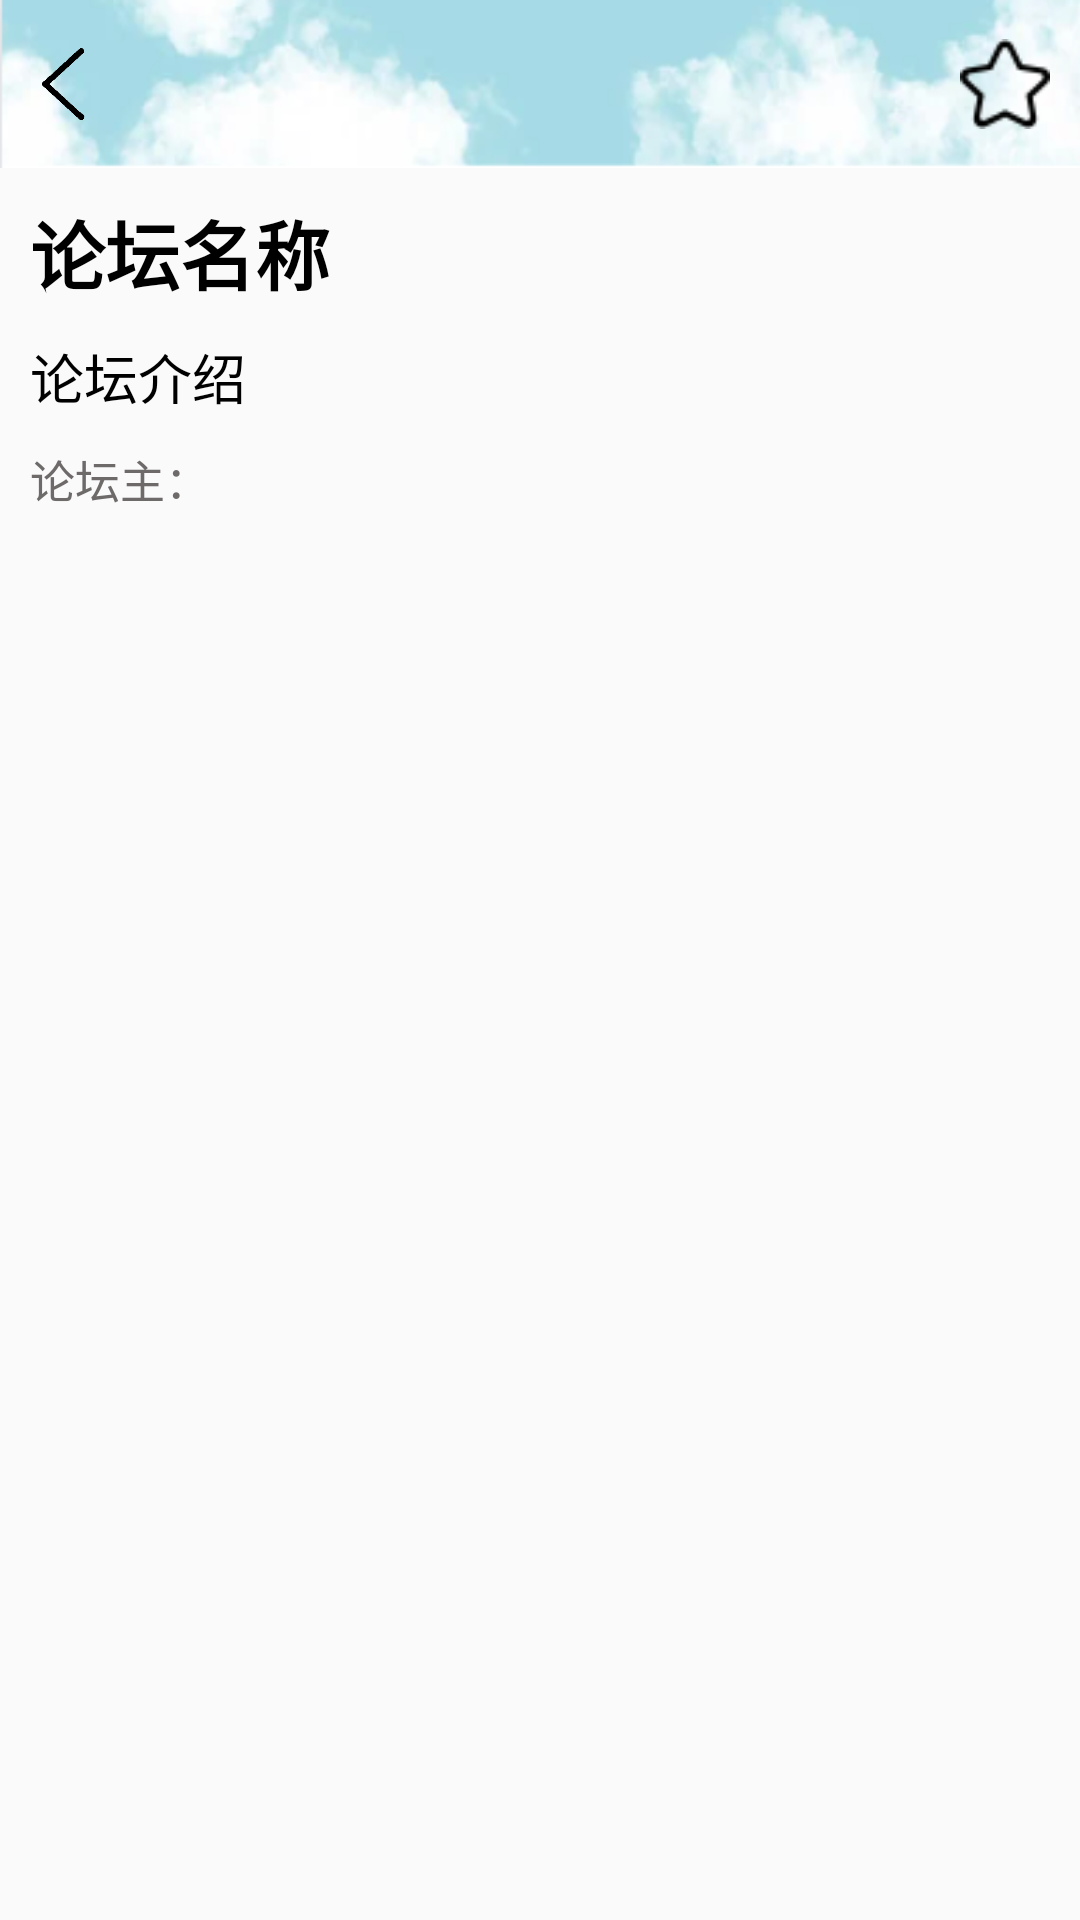

Icon click points for this 1080x1920 phone screenshot, format point (x, y):
collect: point (1005, 84)
return: point (63, 84)
